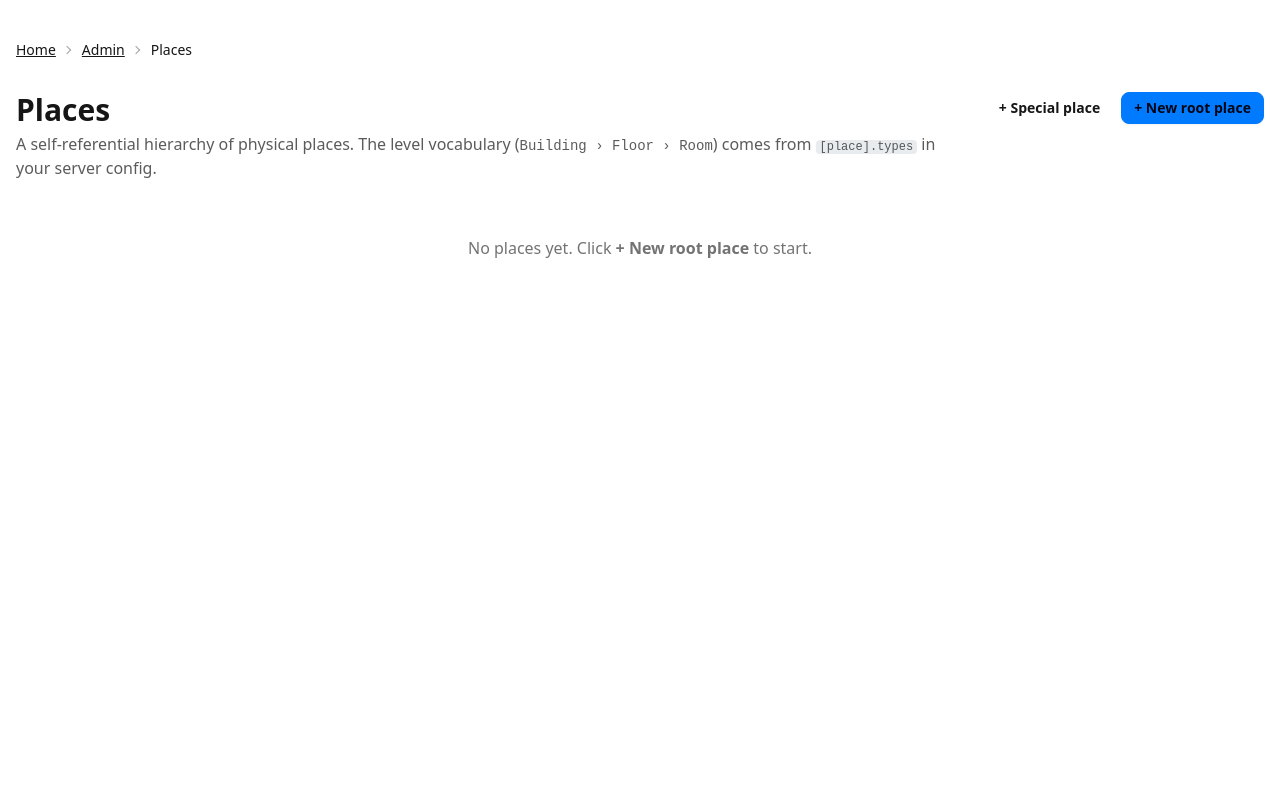
it: saving › reports the server's reason and keeps the form open
Click the button "+ New root place" at x=1193, y=108, box [1121, 92, 1264, 124]
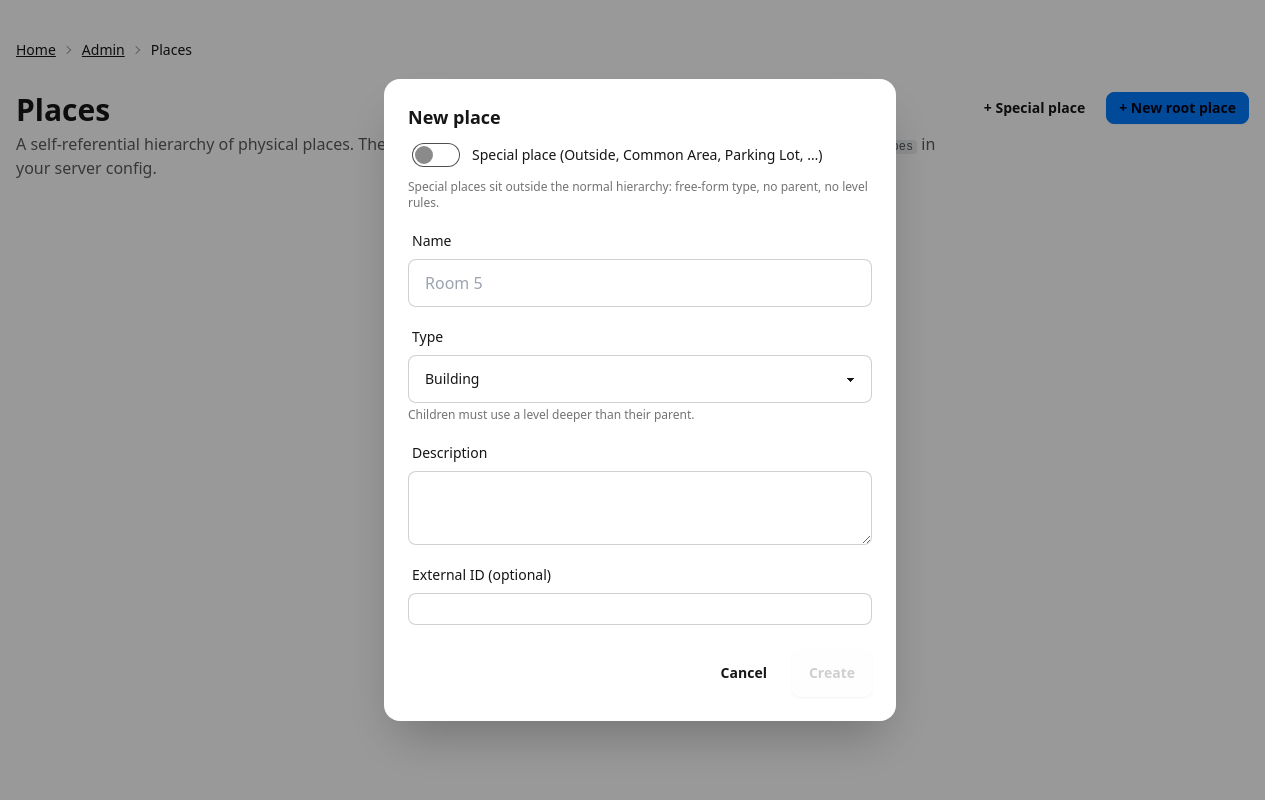
Type "Main Building" into the field with placeholder "Room 5" at x=640, y=283, box [408, 259, 872, 307]
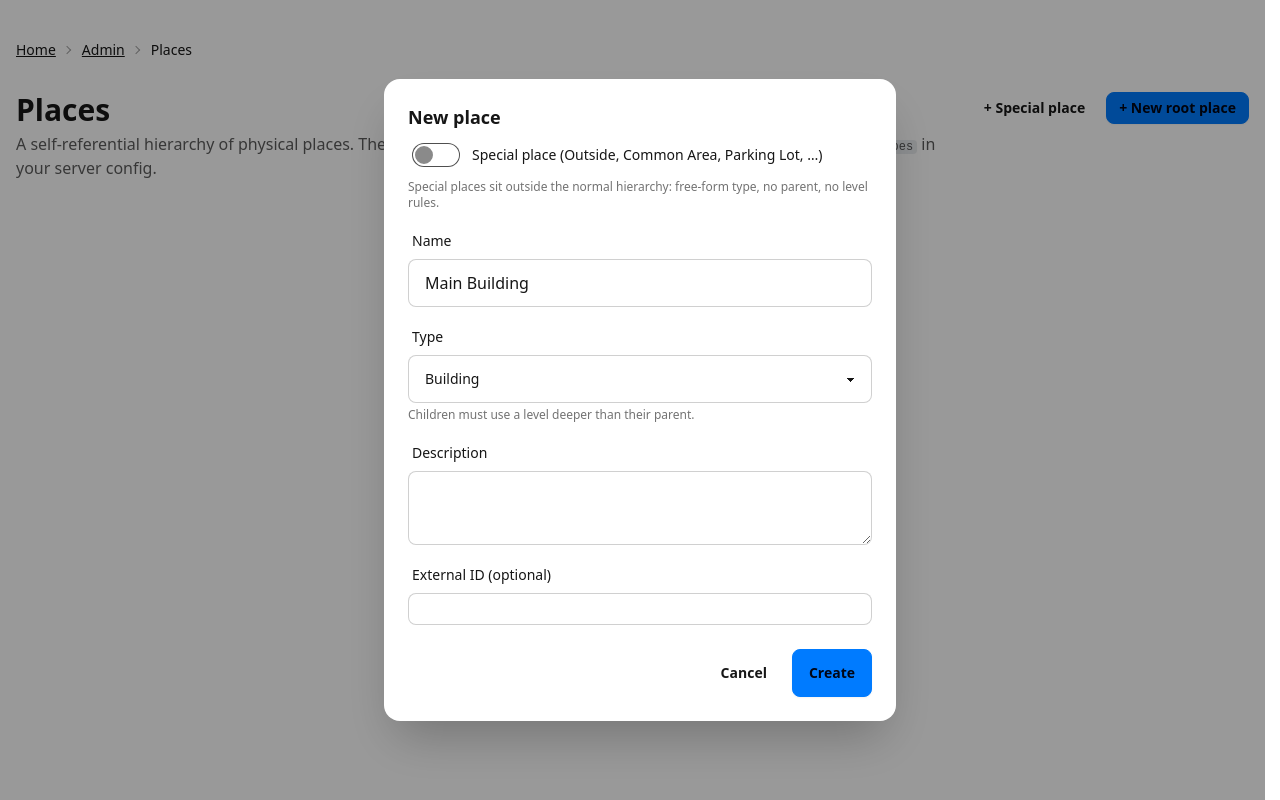
Click the button "Create" at x=832, y=673, box [792, 649, 872, 697]
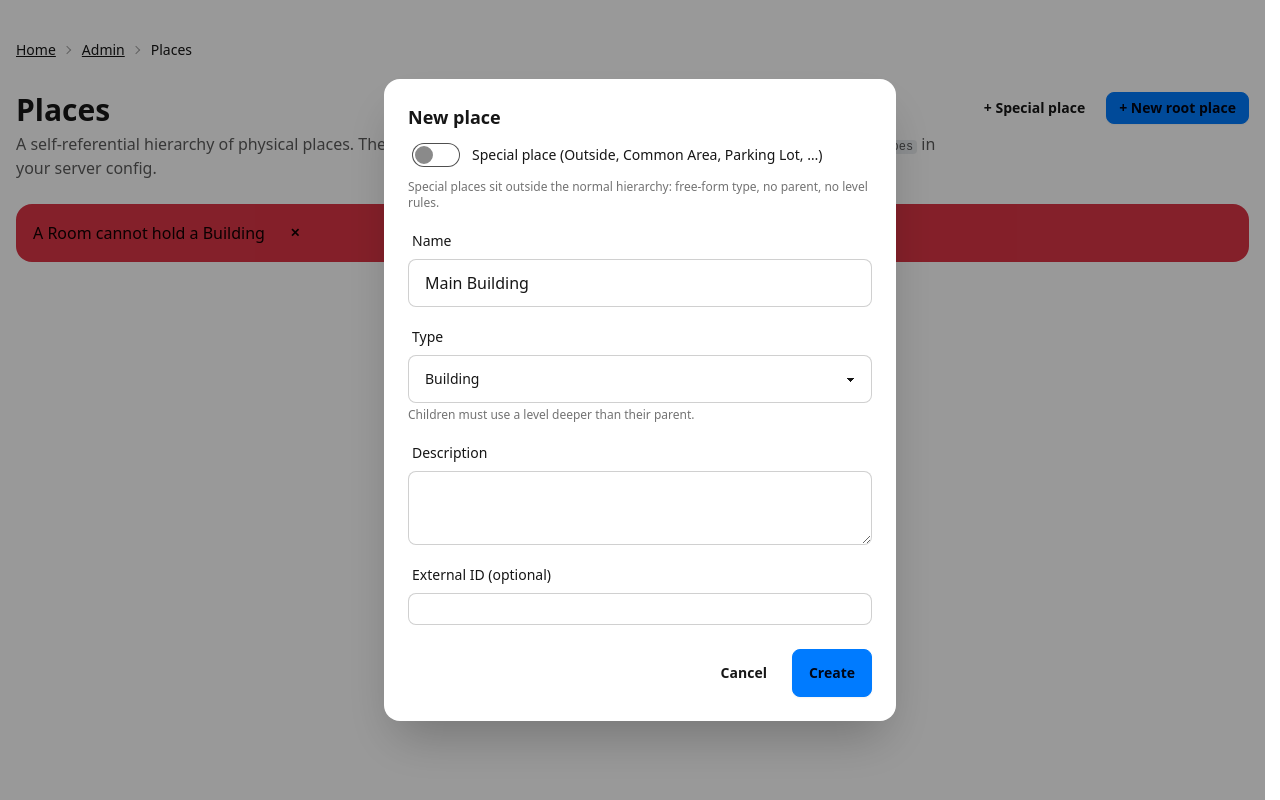
Expected: the element with class "modal-open" is shown
Expected: the element with class "alert-error" shows "A Room cannot hold a Building", [33, 222, 265, 244]
